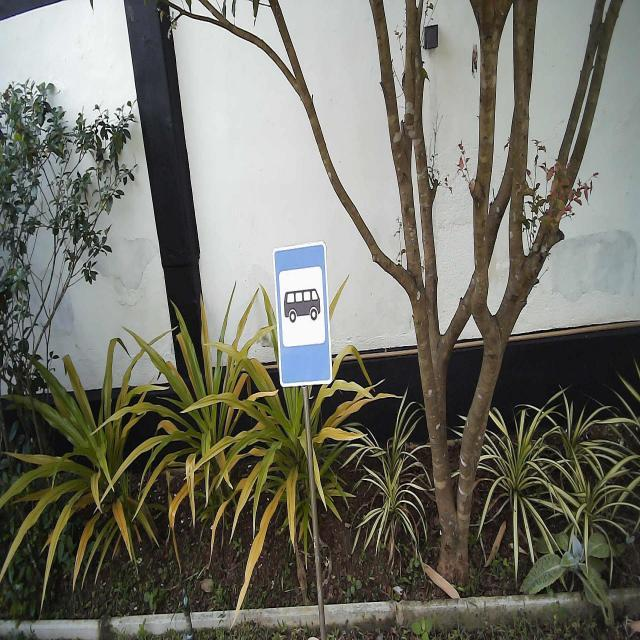bus_stop: (272, 240, 334, 388)
